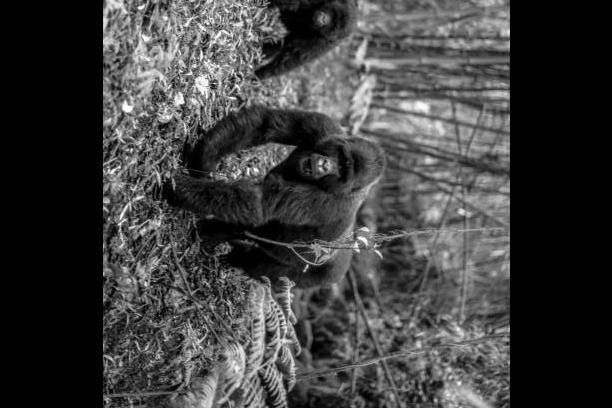goriile_montagne: (176, 110, 396, 286), (256, 0, 368, 69)
